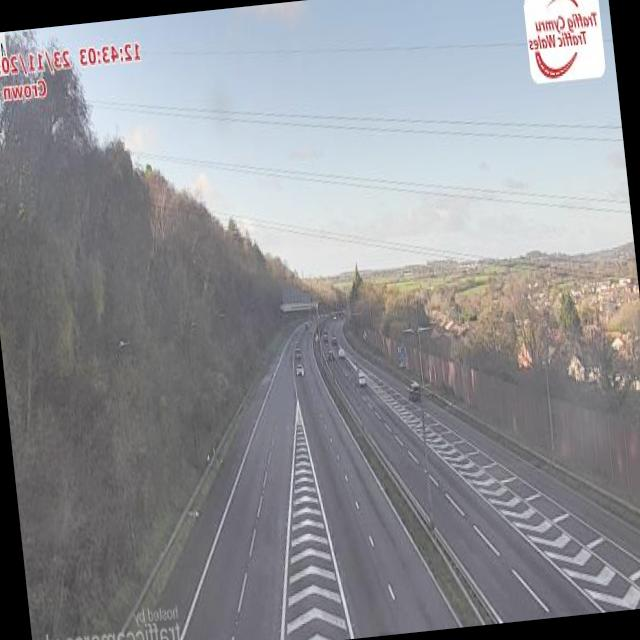foliage: (0, 70, 297, 640)
